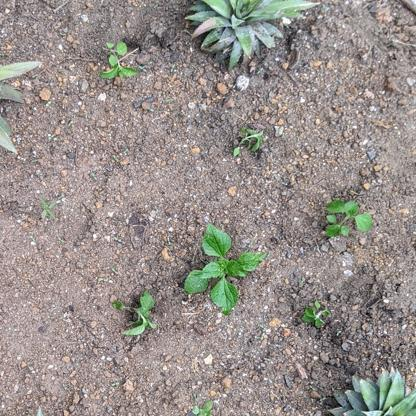pineapple: (183, 1, 320, 66), (325, 365, 416, 416)
weed: (184, 220, 266, 314), (114, 290, 164, 338), (324, 195, 373, 241), (102, 40, 139, 83), (229, 127, 267, 160), (298, 305, 340, 334)
